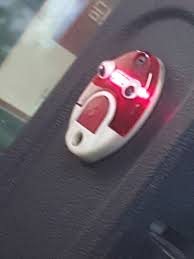bell: (64, 49, 165, 163)
